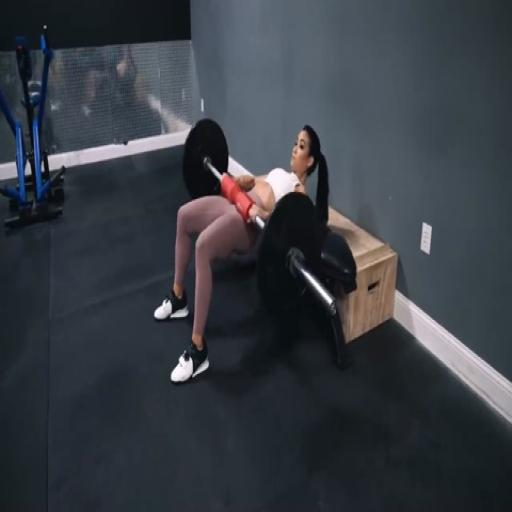exercise: (151, 121, 333, 387)
